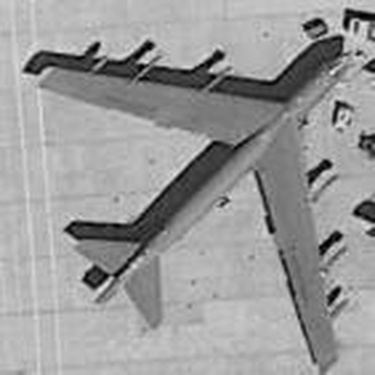airplane: (26, 15, 360, 367)
